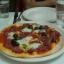pizza: (1, 23, 62, 56)
